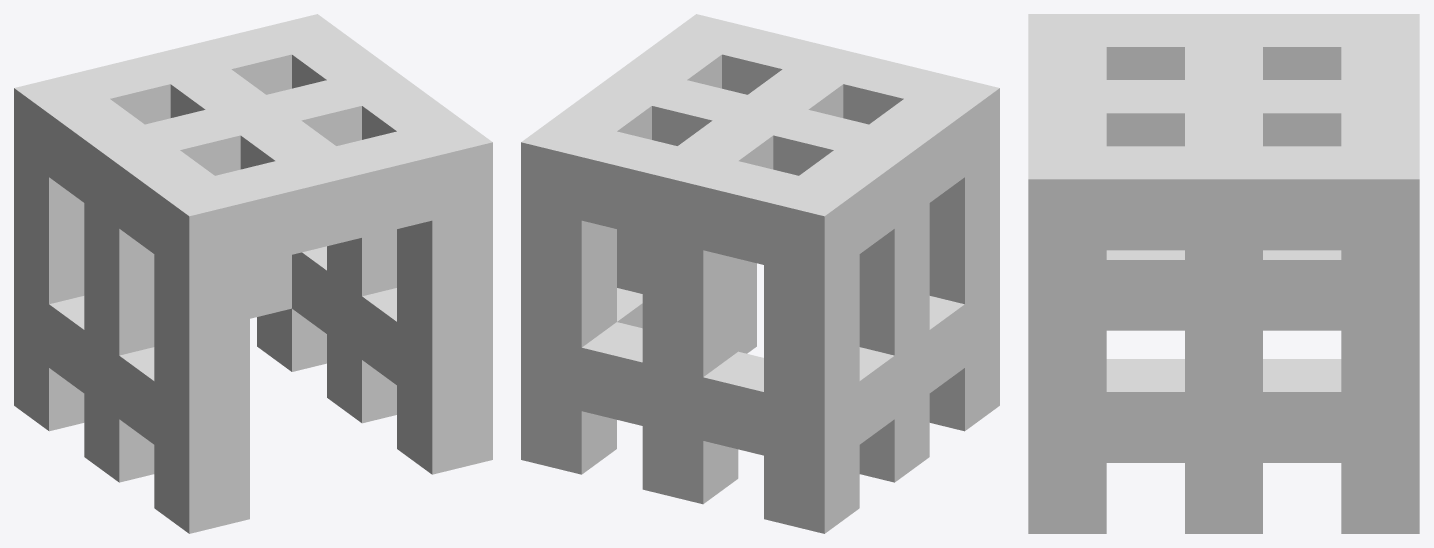
Rendered from net.obj.
3 renders of one model, left to right at view 1: azimuth 30°, elevation 25°; view 2: azimuth 150°, elevation 25°; view 3: azimuth 270°, elevation 25°, orthographic. The views are drawn at different scales.
Visible parts, largest first — view 1: net; view 2: net; view 3: net.
Boxes of the visible parts, bbox=[...] form: net: bbox=[14, 14, 492, 533]; net: bbox=[521, 14, 999, 533]; net: bbox=[1028, 14, 1419, 533].
Bounding box in the file's own units: 5 × 5 × 5.
1 material, 1 textured.
